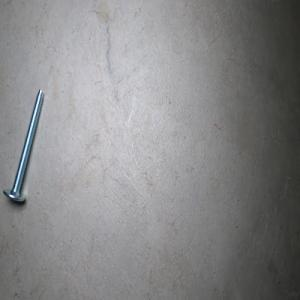Bolt: (2, 88, 44, 202)
